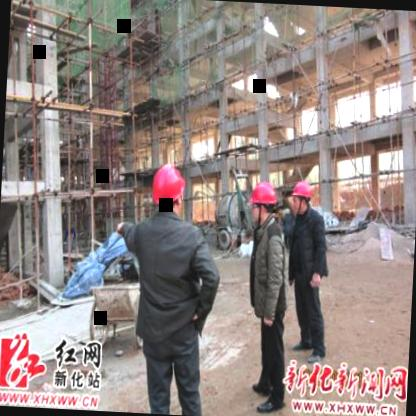helmet: (148, 162, 189, 221), (244, 180, 278, 230), (285, 180, 313, 212)
